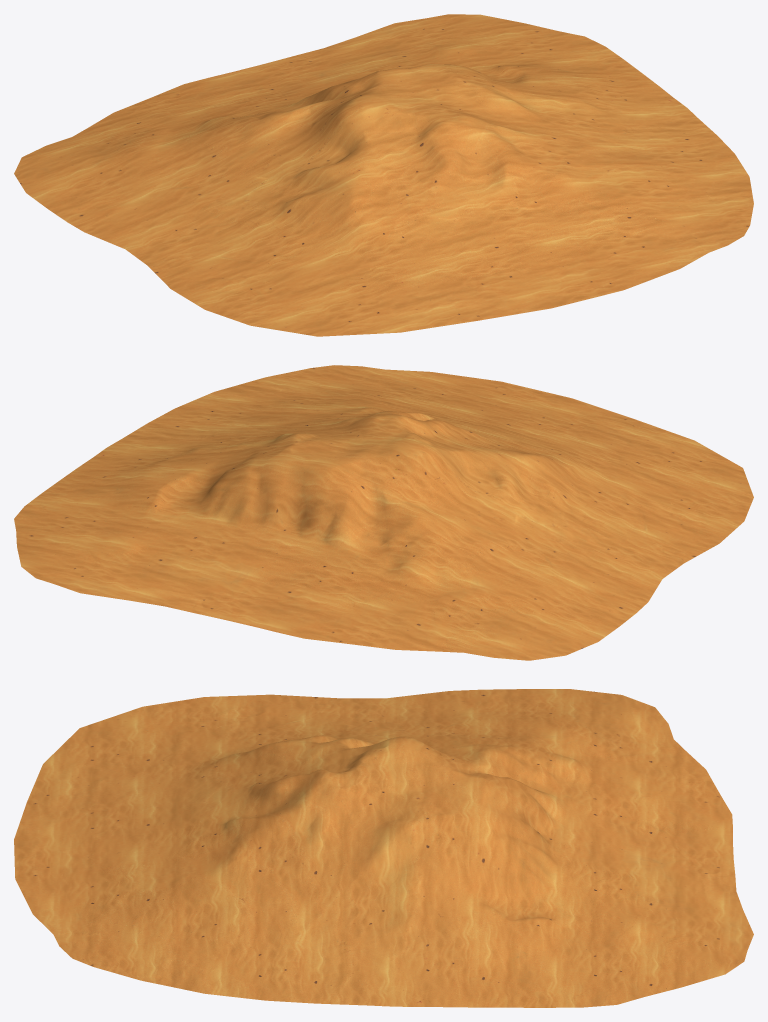
The model's file is EP1_Terrain03d.fbx.
3 views of the same model, one above another, from view 1: azimuth 30°, elevation 25°; view 2: azimuth 150°, elevation 25°; view 3: azimuth 270°, elevation 25° (orthographic). The views are drawn at different scales.
Visible parts, largest first — view 1: EP1_Terrain03d; view 2: EP1_Terrain03d; view 3: EP1_Terrain03d.
Boxes of the visible parts, x1=… form: EP1_Terrain03d: x1=14, y1=14, x2=753, y2=336; EP1_Terrain03d: x1=14, y1=365, x2=753, y2=660; EP1_Terrain03d: x1=14, y1=689, x2=753, y2=1007.
Size of the model in its own units: 21.86 by 2.91 by 21.44.
1 material, 1 textured.
